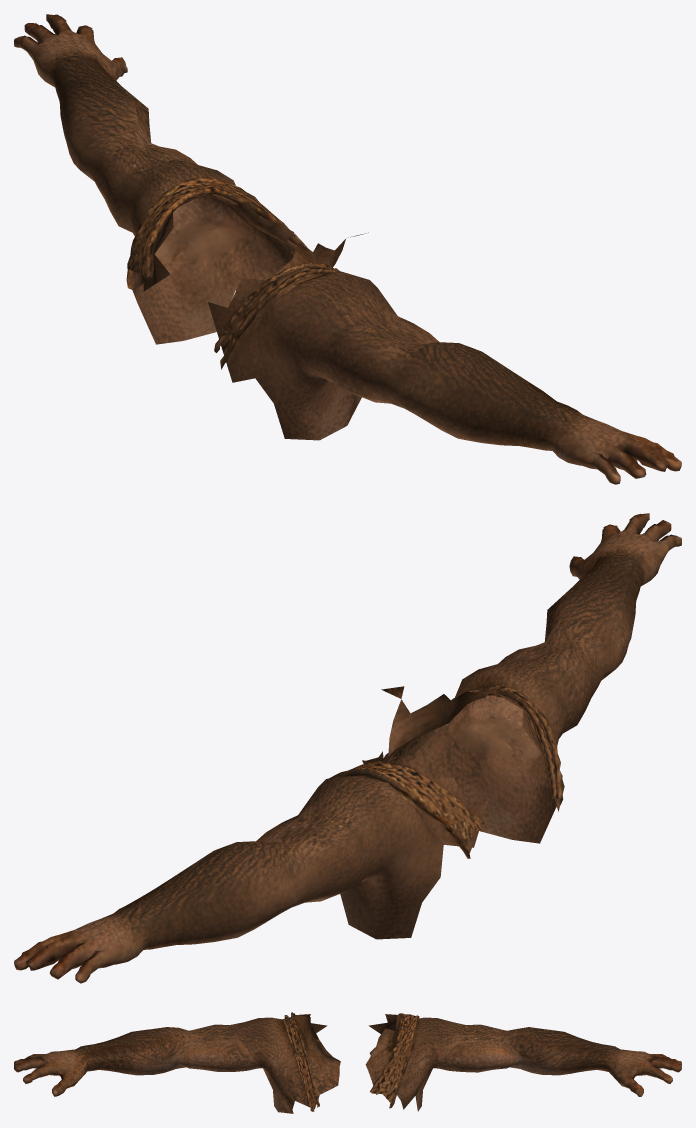
File: meganthropus-tangan.glb
The picture shows the model from 3 angles, top to bottom: view 1: azimuth 30°, elevation 25°; view 2: azimuth 150°, elevation 25°; view 3: azimuth 270°, elevation 25°; orthographic projection. The views are drawn at different scales.
Parts seen in each view (by area): view 1: meganthrops-tangan; view 2: meganthrops-tangan; view 3: meganthrops-tangan.
Boxes of the visible parts, x1=… form: meganthrops-tangan: x1=14, y1=14, x2=681, y2=484; meganthrops-tangan: x1=14, y1=513, x2=681, y2=983; meganthrops-tangan: x1=14, y1=1012, x2=681, y2=1113.
Bounding box in the file's own units: 0.207 × 0.1523 × 0.998.
1 material, 1 textured.
